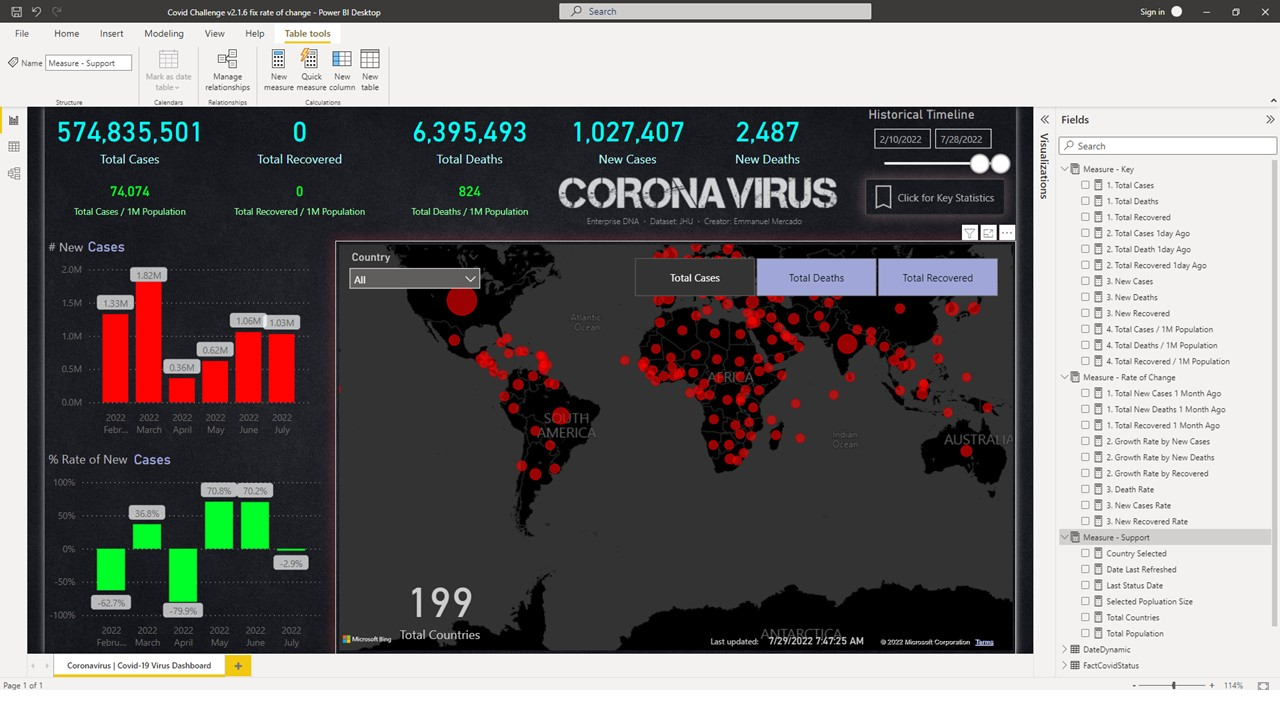

The page's visual inventory and layout, read from the dashboard file:
{"tool":"powerbi","page":{"name":"Coronavirus | Covid-19 Virus Dashboard","canvas":[1280,720],"ordinal":0},"visuals":[{"type":"image","box":[664.1,0,392.8,223.7],"z":0},{"type":"pivotTable","title":"All Statistics","fields":{"Rows":["LookMapLatLong.Country"],"Values":["Measure - Key.1. Total Cases","Measure - Key.1. Total Recovered","Measure - Key.1. Total Deaths","Measure - Key.3. New Cases","Measure - Key.3. New Recovered","Measure - Key.3. New Deaths","Measure - Key.4. Total Cases / 1M Population","Measure - Key.4. Total Recovered / 1M Population","Measure - Key.4. Total Dealths / 1M Population","Measure - Support.Selected Popluation Size","Measure - Key.4. New Cases Rate","Measure - Key.4. Death Rate"]},"box":[1256.8,703.7,12.3,8.8],"z":1000},{"type":"map","fields":{"Category":["FactCovidStatus.Country/Region"],"Size":["Measure - Switch.Selection Switch 1 - Main"]},"box":[383.1,176.1,896.6,544.3],"z":2000},{"type":"card","fields":{"Values":["Key Measures.Count Confirmed"]},"box":[0,0,224,80],"z":3000},{"type":"card","fields":{"Values":["Key Measures.Count Recovered"]},"box":[224,0,224,80],"z":4000},{"type":"card","fields":{"Values":["Key Measures.Count Death"]},"box":[448,0,224,80],"z":5000},{"type":"card","fields":{"Values":["Key Measures.New Cases"]},"box":[672,0,192,80],"z":6000},{"type":"card","fields":{"Values":["Key Measures.New Deaths"]},"box":[864,0,176,80],"z":7000},{"type":"slicer","title":"Historical Timeline","fields":{"Values":["DateDynamic.Date"]},"box":[1080.2,0,199.8,96],"z":8000},{"type":"slicer","fields":{"Values":["Selected Measure Map.Selected Measure"]},"box":[752,192,528,64],"z":9000},{"type":"card","fields":{"Values":["Key Measures.Date Last Refreshed"]},"box":[935.6,688,160,32],"z":10000},{"type":"textbox","box":[871.6,688,96,32],"z":11000},{"type":"card","fields":{"Values":["Measure - Support.Total Countries"]},"box":[448.3,599.8,143.6,112.7],"z":12000},{"type":"lineStackedColumnComboChart","fields":{"Y":["Measure - Switch.Selection Switch 3"],"Category":["DateDynamic.Date.Variation.Date Hierarchy.Year","DateDynamic.Date.Variation.Date Hierarchy.Month","DateDynamic.Date.Variation.Date Hierarchy.Day"]},"box":[0,480,368,240],"z":13000},{"type":"lineStackedColumnComboChart","fields":{"Y":["Measure - Switch.Selection Switch 2"],"Category":["DateDynamic.Date.Variation.Date Hierarchy.Year","DateDynamic.Date.Variation.Date Hierarchy.Month","DateDynamic.Date.Variation.Date Hierarchy.Day"]},"box":[16.4,200.2,336,240],"z":14000},{"type":"textbox","box":[0.4,168.2,72,32],"z":15000},{"type":"textbox","box":[0,448,136,32],"z":16000},{"type":"textbox","box":[52,174,119.8,47.6],"z":17000},{"type":"textbox","box":[112,454,120,48],"z":18000},{"type":"slicer","fields":{"Values":["FactCovidStatus.Country/Region"]},"box":[392,184,192,64],"z":19000},{"type":"card","fields":{"Values":["Measure - Key.4. Total Cases / 1M Population"]},"box":[0,80,224,80],"z":20000},{"type":"card","fields":{"Values":["Measure - Key.4. Total Deaths / 1M Population"]},"box":[448,80,224,80],"z":21000},{"type":"card","fields":{"Values":["Measure - Key.4. Total Recovered / 1M Population"]},"box":[240,80,192,80],"z":22000},{"type":"textbox","box":[1118.5,105.7,148.8,28.2],"z":22500},{"type":"actionButton","box":[1080.7,95.1,184.1,48.4],"z":23000},{"type":"textbox","box":[664.1,135.6,384,39.6],"z":24000}]}

Visuals, with their boxes on the page's 1280x720 design canvas (x1, y1, x2, y2). These are canvas units, not pixel positions in the 1280x720 screenshot, which may show the page scaled, cropped or inside an application window:
image: x1=664 y1=0 x2=1057 y2=224
"All Statistics" pivotTable: x1=1257 y1=704 x2=1269 y2=712
map - FactCovidStatus.Country/Region x Measure - Switch.Selection Switch 1 - Main: x1=383 y1=176 x2=1280 y2=720
card - Key Measures.Count Confirmed: x1=0 y1=0 x2=224 y2=80
card - Key Measures.Count Recovered: x1=224 y1=0 x2=448 y2=80
card - Key Measures.Count Death: x1=448 y1=0 x2=672 y2=80
card - Key Measures.New Cases: x1=672 y1=0 x2=864 y2=80
card - Key Measures.New Deaths: x1=864 y1=0 x2=1040 y2=80
"Historical Timeline" slicer: x1=1080 y1=0 x2=1280 y2=96
slicer - Selected Measure Map.Selected Measure: x1=752 y1=192 x2=1280 y2=256
card - Key Measures.Date Last Refreshed: x1=936 y1=688 x2=1096 y2=720
textbox: x1=872 y1=688 x2=968 y2=720
card - Measure - Support.Total Countries: x1=448 y1=600 x2=592 y2=712
lineStackedColumnComboChart - Measure - Switch.Selection Switch 3 x DateDynamic.Date.Variation.Date Hierarchy.Year: x1=0 y1=480 x2=368 y2=720
lineStackedColumnComboChart - Measure - Switch.Selection Switch 2 x DateDynamic.Date.Variation.Date Hierarchy.Year: x1=16 y1=200 x2=352 y2=440
textbox: x1=0 y1=168 x2=72 y2=200
textbox: x1=0 y1=448 x2=136 y2=480
textbox: x1=52 y1=174 x2=172 y2=222
textbox: x1=112 y1=454 x2=232 y2=502
slicer - FactCovidStatus.Country/Region: x1=392 y1=184 x2=584 y2=248
card - Measure - Key.4. Total Cases / 1M Population: x1=0 y1=80 x2=224 y2=160
card - Measure - Key.4. Total Deaths / 1M Population: x1=448 y1=80 x2=672 y2=160
card - Measure - Key.4. Total Recovered / 1M Population: x1=240 y1=80 x2=432 y2=160
textbox: x1=1118 y1=106 x2=1267 y2=134
actionButton: x1=1081 y1=95 x2=1265 y2=144
textbox: x1=664 y1=136 x2=1048 y2=175
